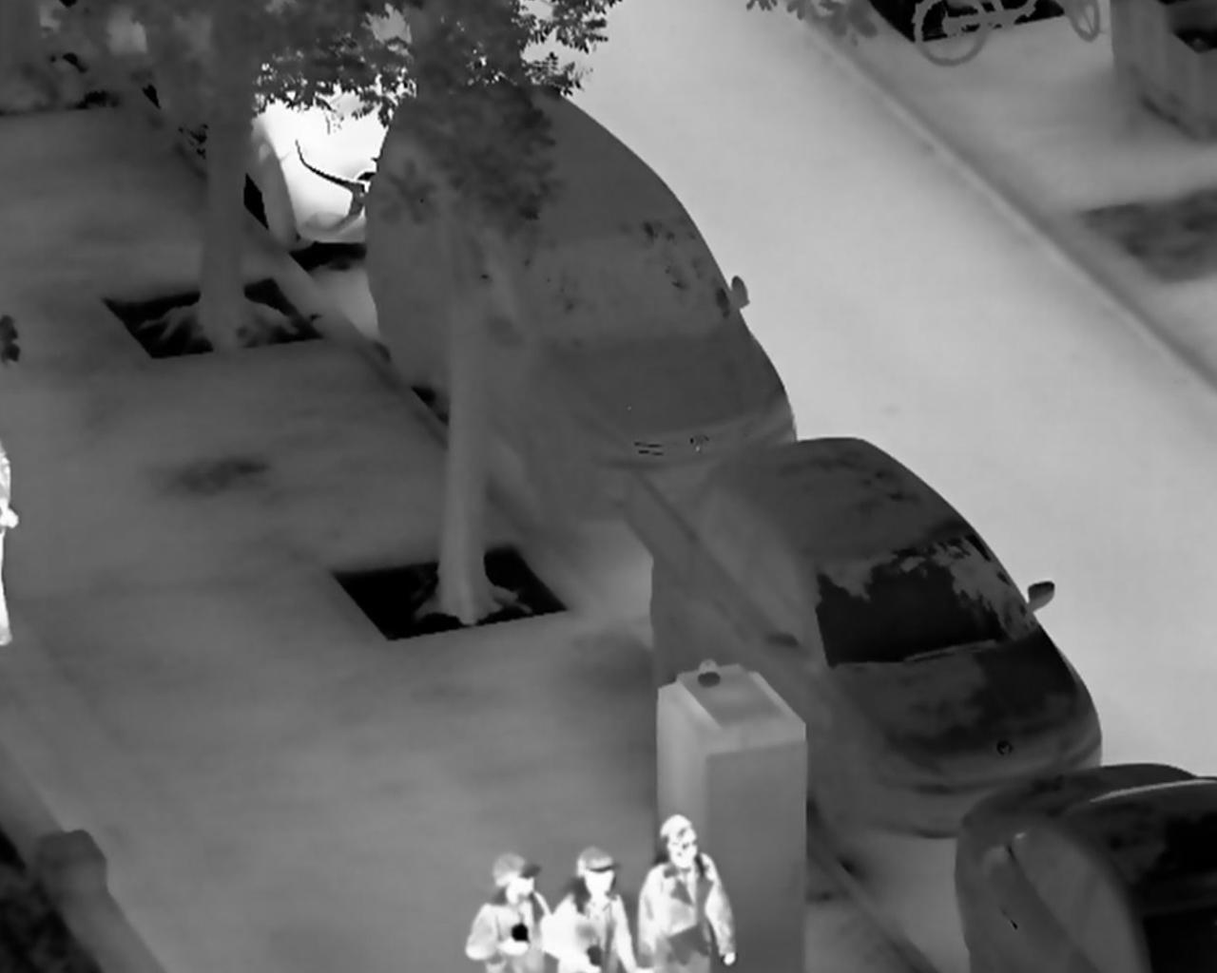person: (635, 812, 739, 973), (542, 843, 641, 973), (464, 850, 553, 973)
